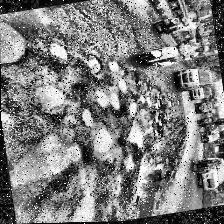pothole: (4, 128, 90, 192), (125, 152, 170, 220), (0, 17, 34, 70), (28, 80, 70, 116), (60, 190, 104, 222), (90, 124, 120, 156), (90, 87, 120, 113), (124, 124, 146, 153), (46, 40, 71, 62), (84, 52, 104, 76), (76, 110, 98, 128), (125, 100, 140, 119), (116, 76, 130, 93), (138, 96, 154, 108)
